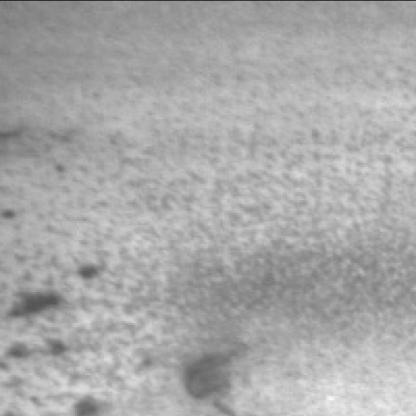patches: (183, 343, 256, 416)
pitted_surface: (10, 118, 414, 360)
